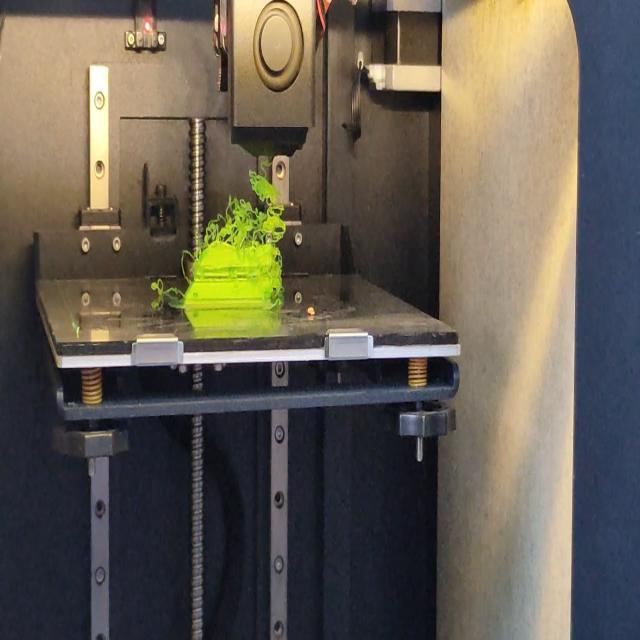spaghetti: (202, 159, 286, 252), (150, 280, 182, 300), (180, 247, 190, 285), (274, 292, 282, 314)
